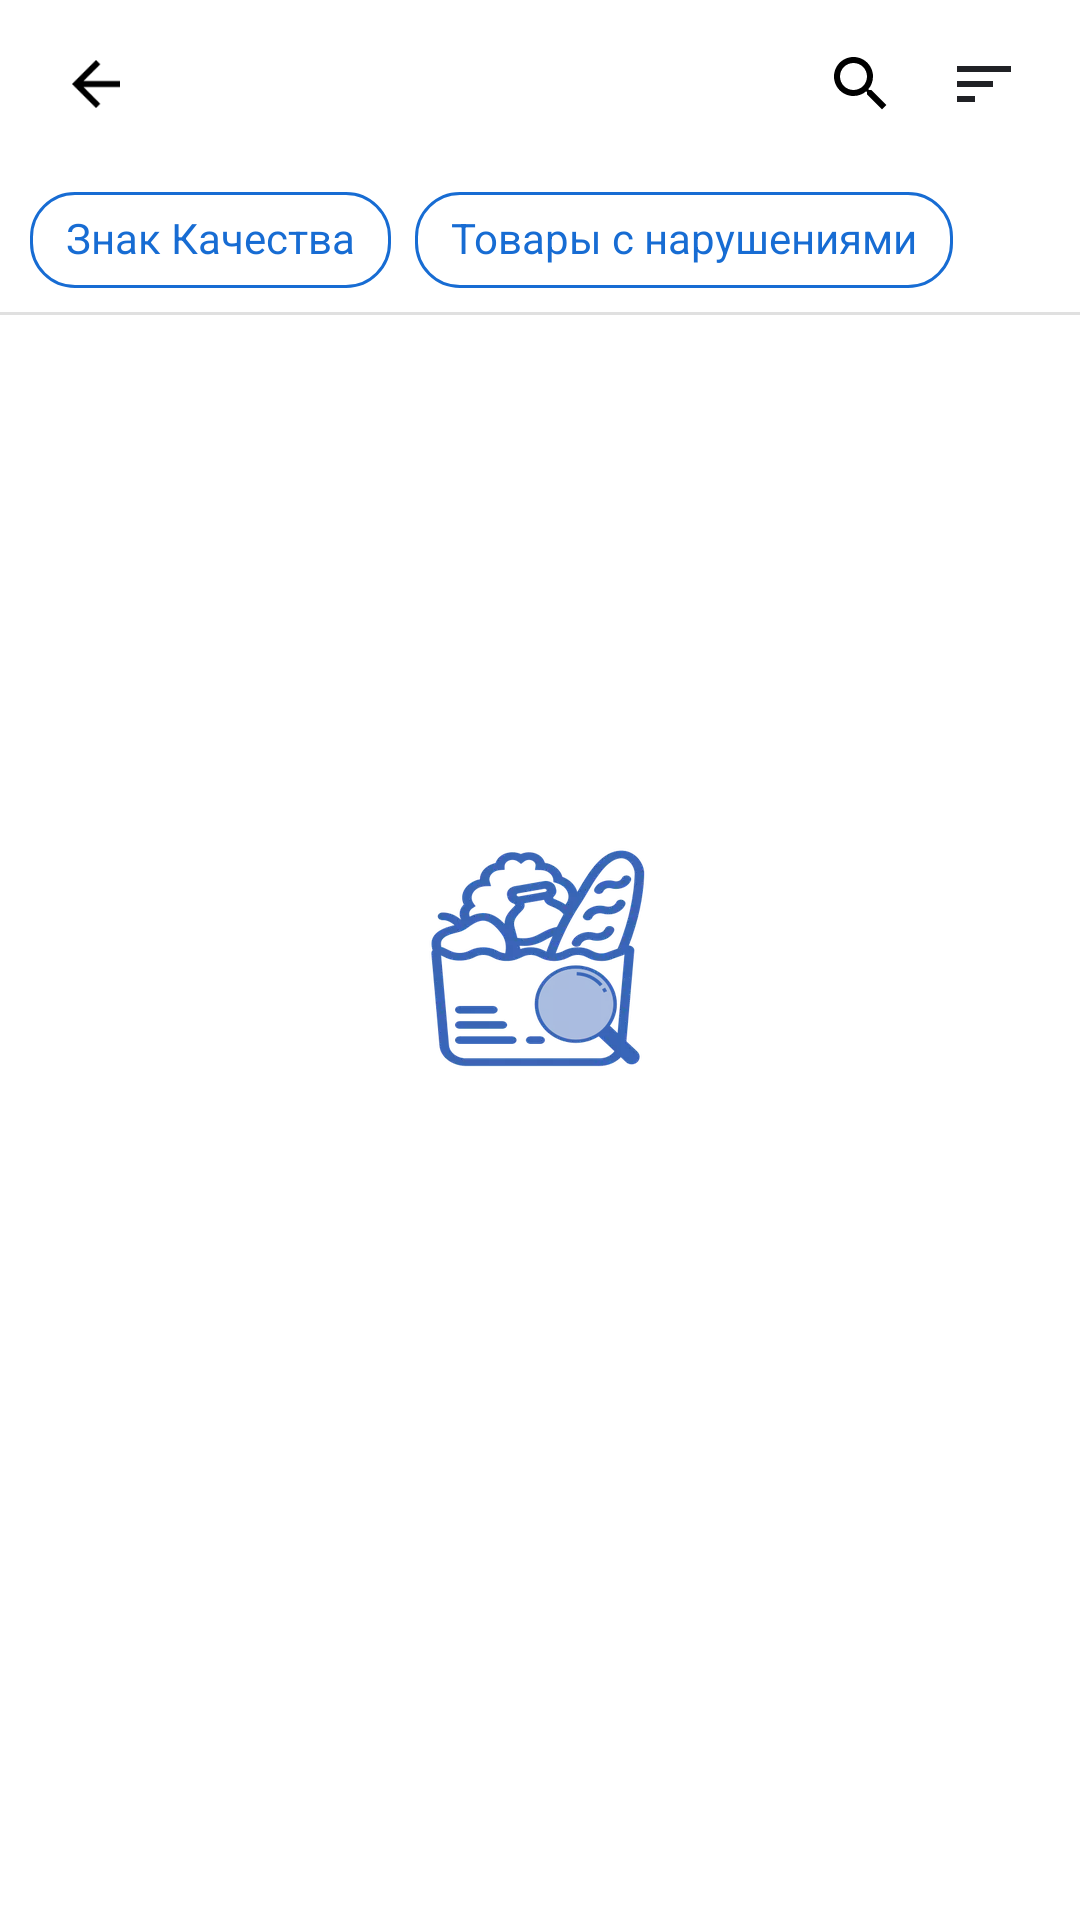

Screen size 1080×1920. Icon name, then its box in pixels as (x1, y1, x2, y2):
arrow back: (72, 60, 120, 108)
sort: (957, 66, 1011, 102)
